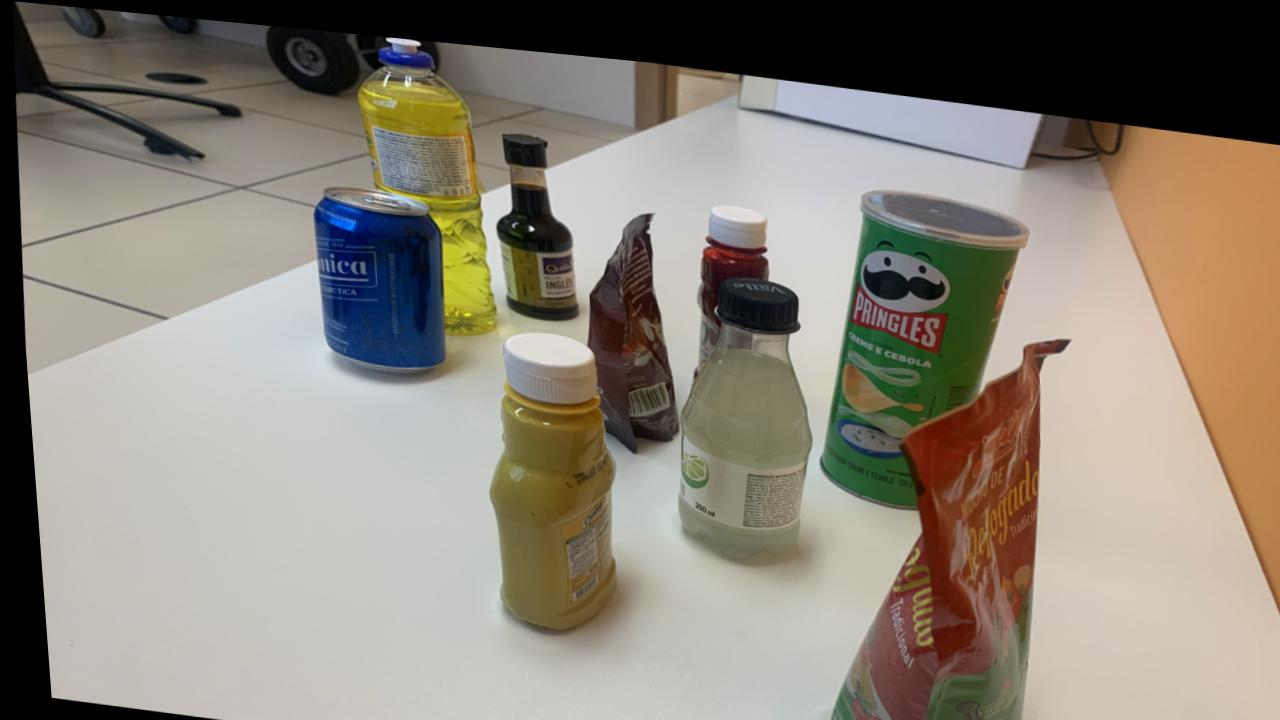Coffee-Pantry_Items: (584, 200, 674, 440)
Detergent-Cleanup_Items: (356, 30, 492, 326)
English_Sauce-Pantry_Items: (494, 123, 574, 310)
Ketchup-Pantry_Items: (690, 191, 766, 363)
Mustard-Pantry_Items: (483, 322, 610, 619)
Pringles-Snacks: (816, 171, 1026, 490)
Soda-Drinks: (672, 263, 806, 544)
Tomato_Sauce-Pantry_Items: (820, 318, 1064, 720)
Tonic-Drinks: (312, 180, 440, 365)
